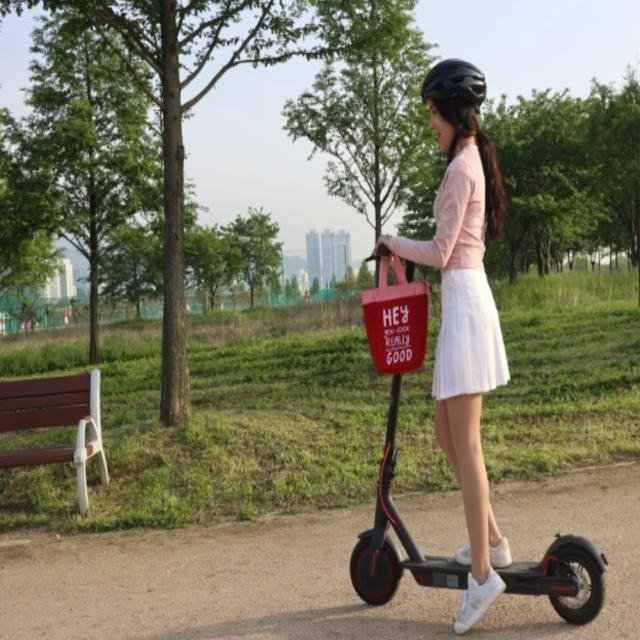helmet: (313, 21, 640, 640)
